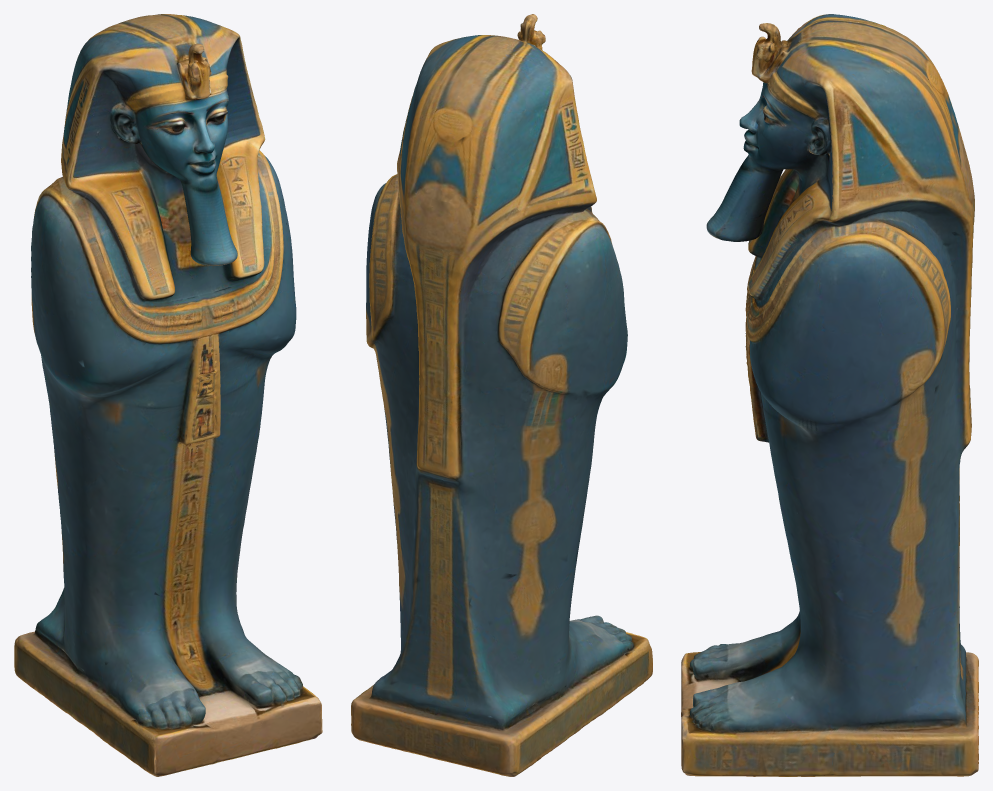
File: Meshy_AI_Egyptian_Sarcophagus_0310040955_texture.glb
3 renders of one model, left to right at view 1: azimuth 30°, elevation 25°; view 2: azimuth 150°, elevation 25°; view 3: azimuth 270°, elevation 25°, orthographic. The views are drawn at different scales.
Size of the model in its own units: 0.6803 by 1.9 by 0.7217.
Materials: 1 (1 with a texture image).
